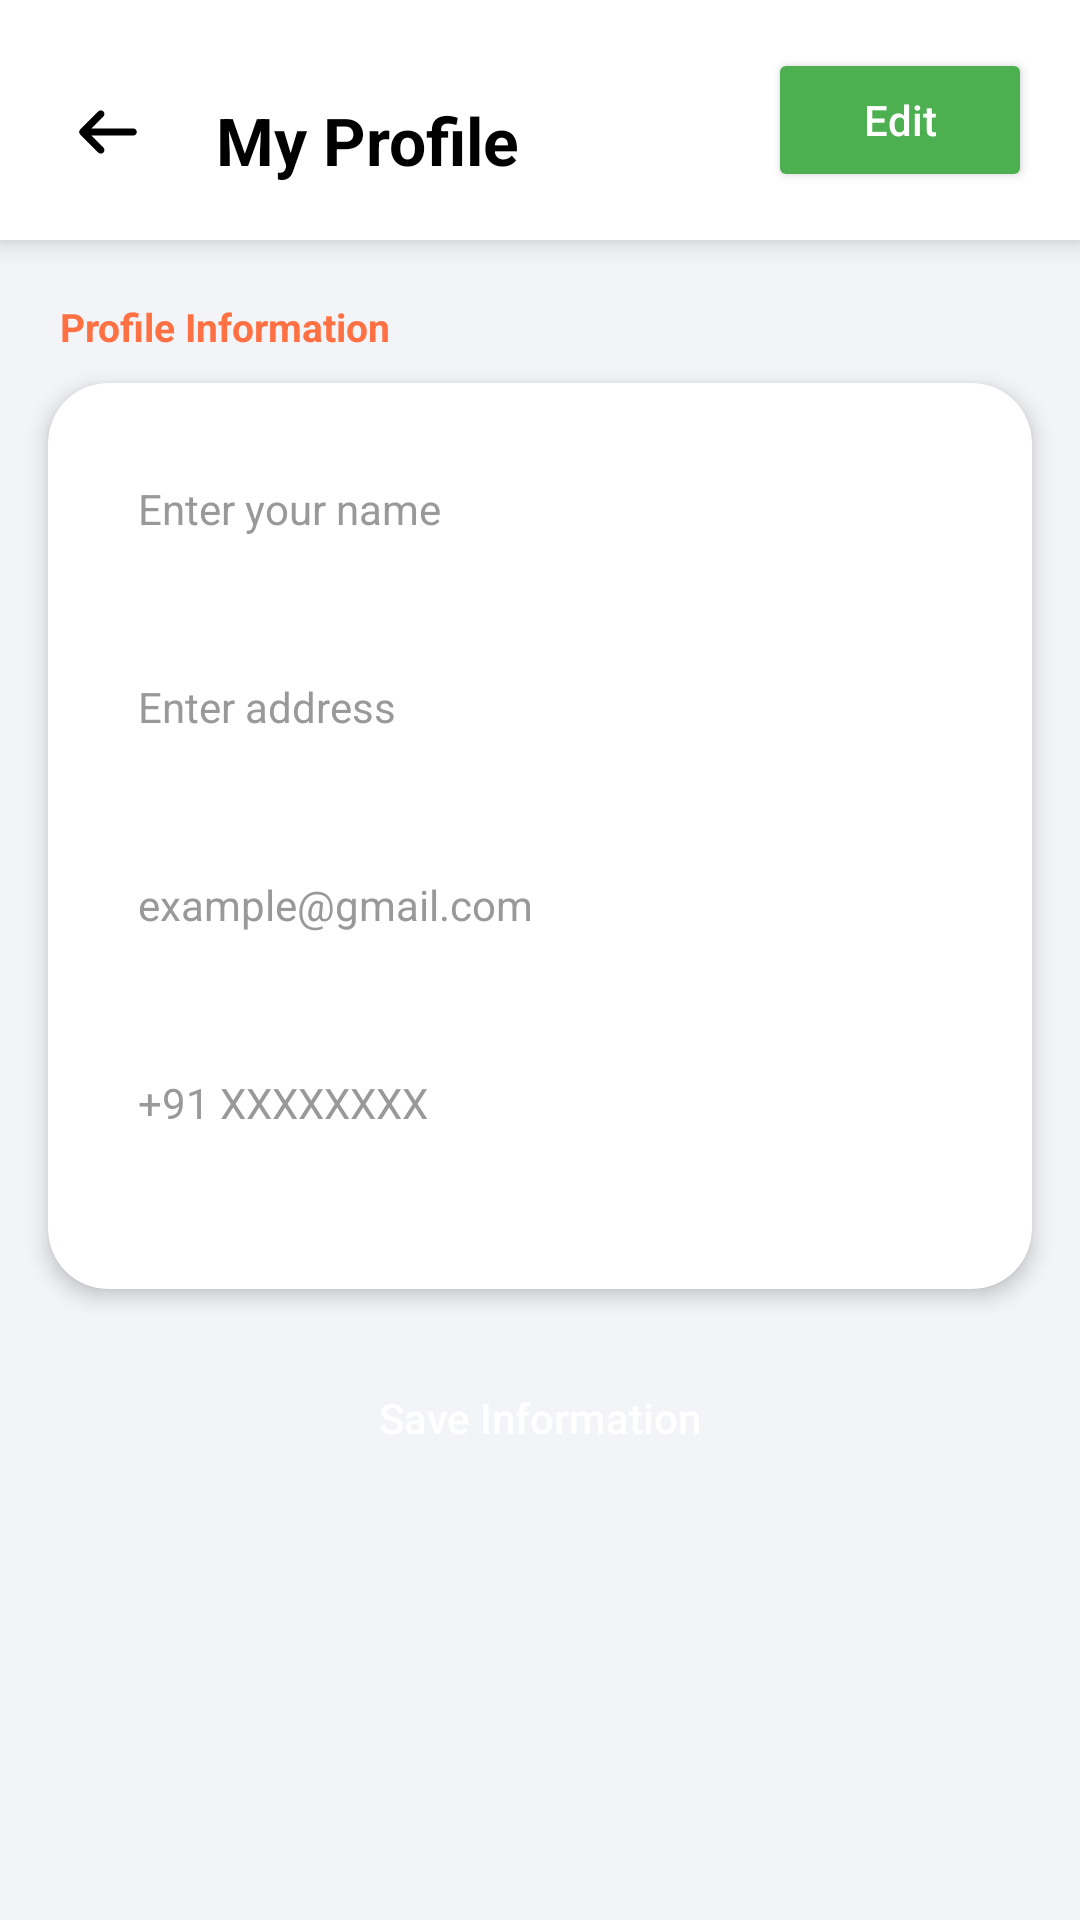

Icons on this 1080x1920 Android screen, each with the point to tap as (x=x, y=y):
arrow left full: (x=108, y=132)
